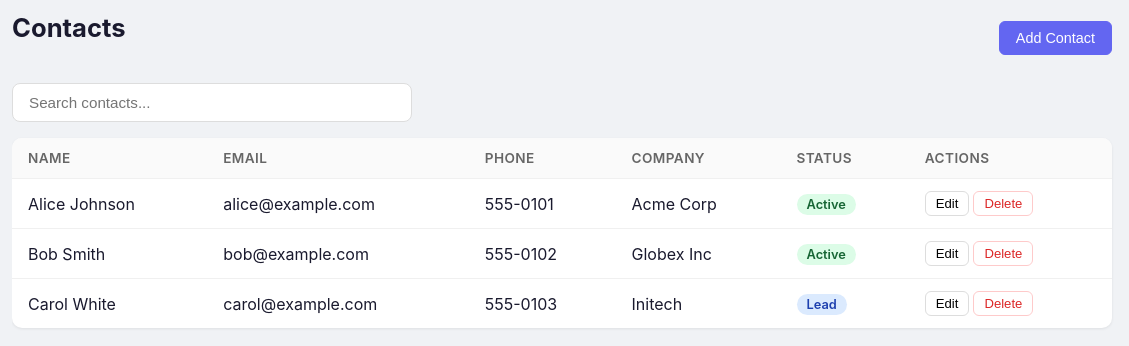
Test case: Contacts › filters contacts by search input
In the field with placeholder "Search contacts...": (212, 102) [12,83,412,122], type "alice"
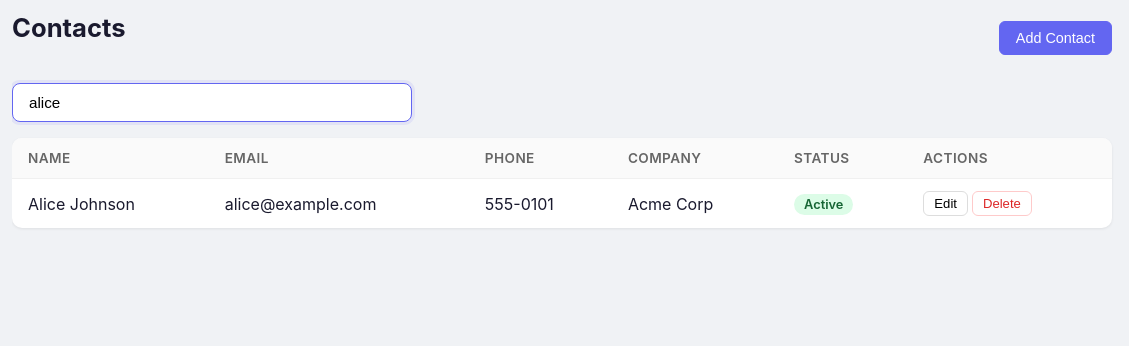
Expected: the text "Alice Johnson" is shown, [12,178,209,228]
Result: the text "Bob Smith" is gone
Result: the text "Carol White" is gone
